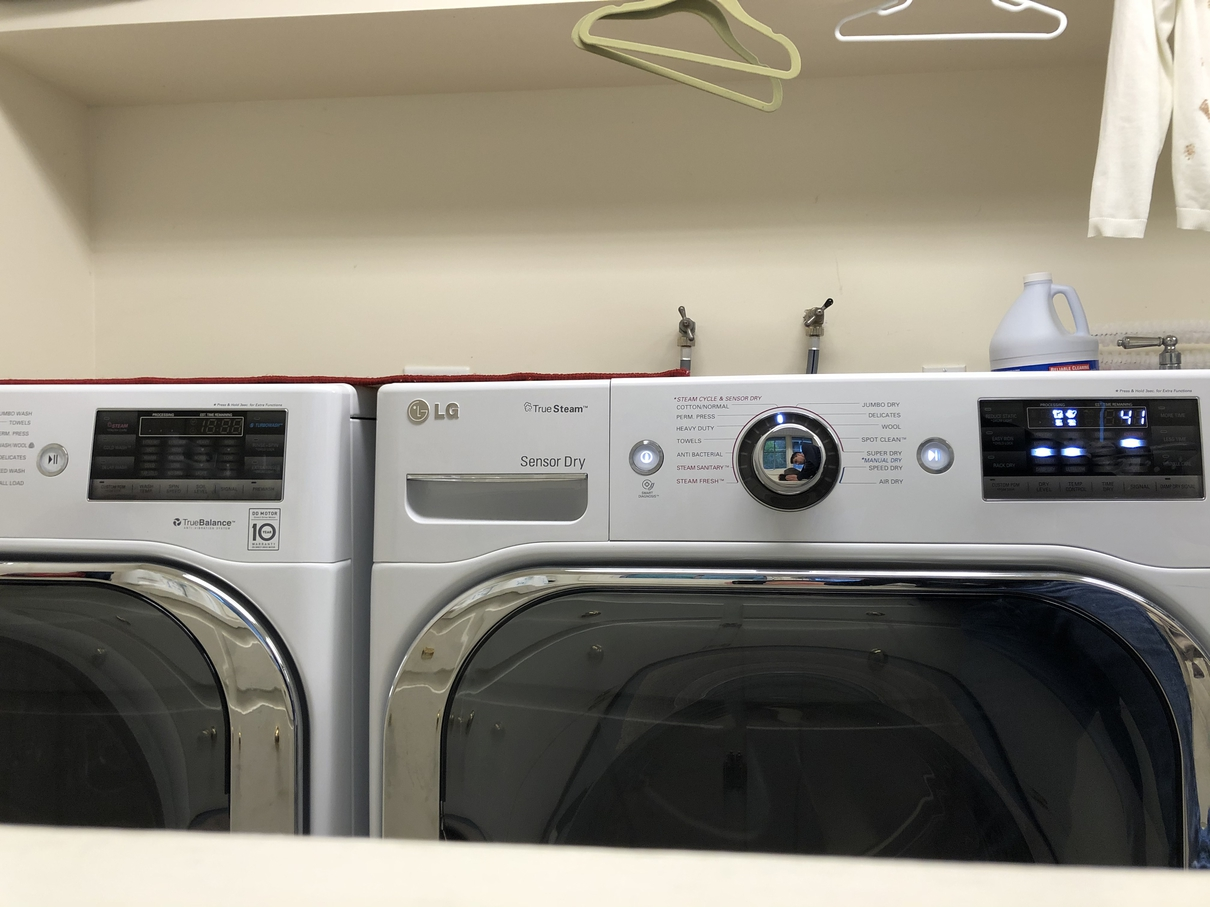status: (1017, 397, 1151, 436)
